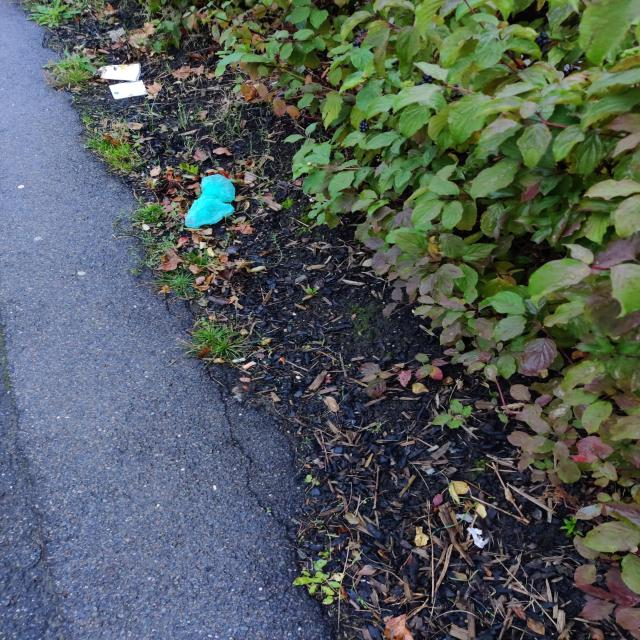litter: (184, 173, 236, 227), (108, 81, 149, 101), (102, 65, 140, 81)
